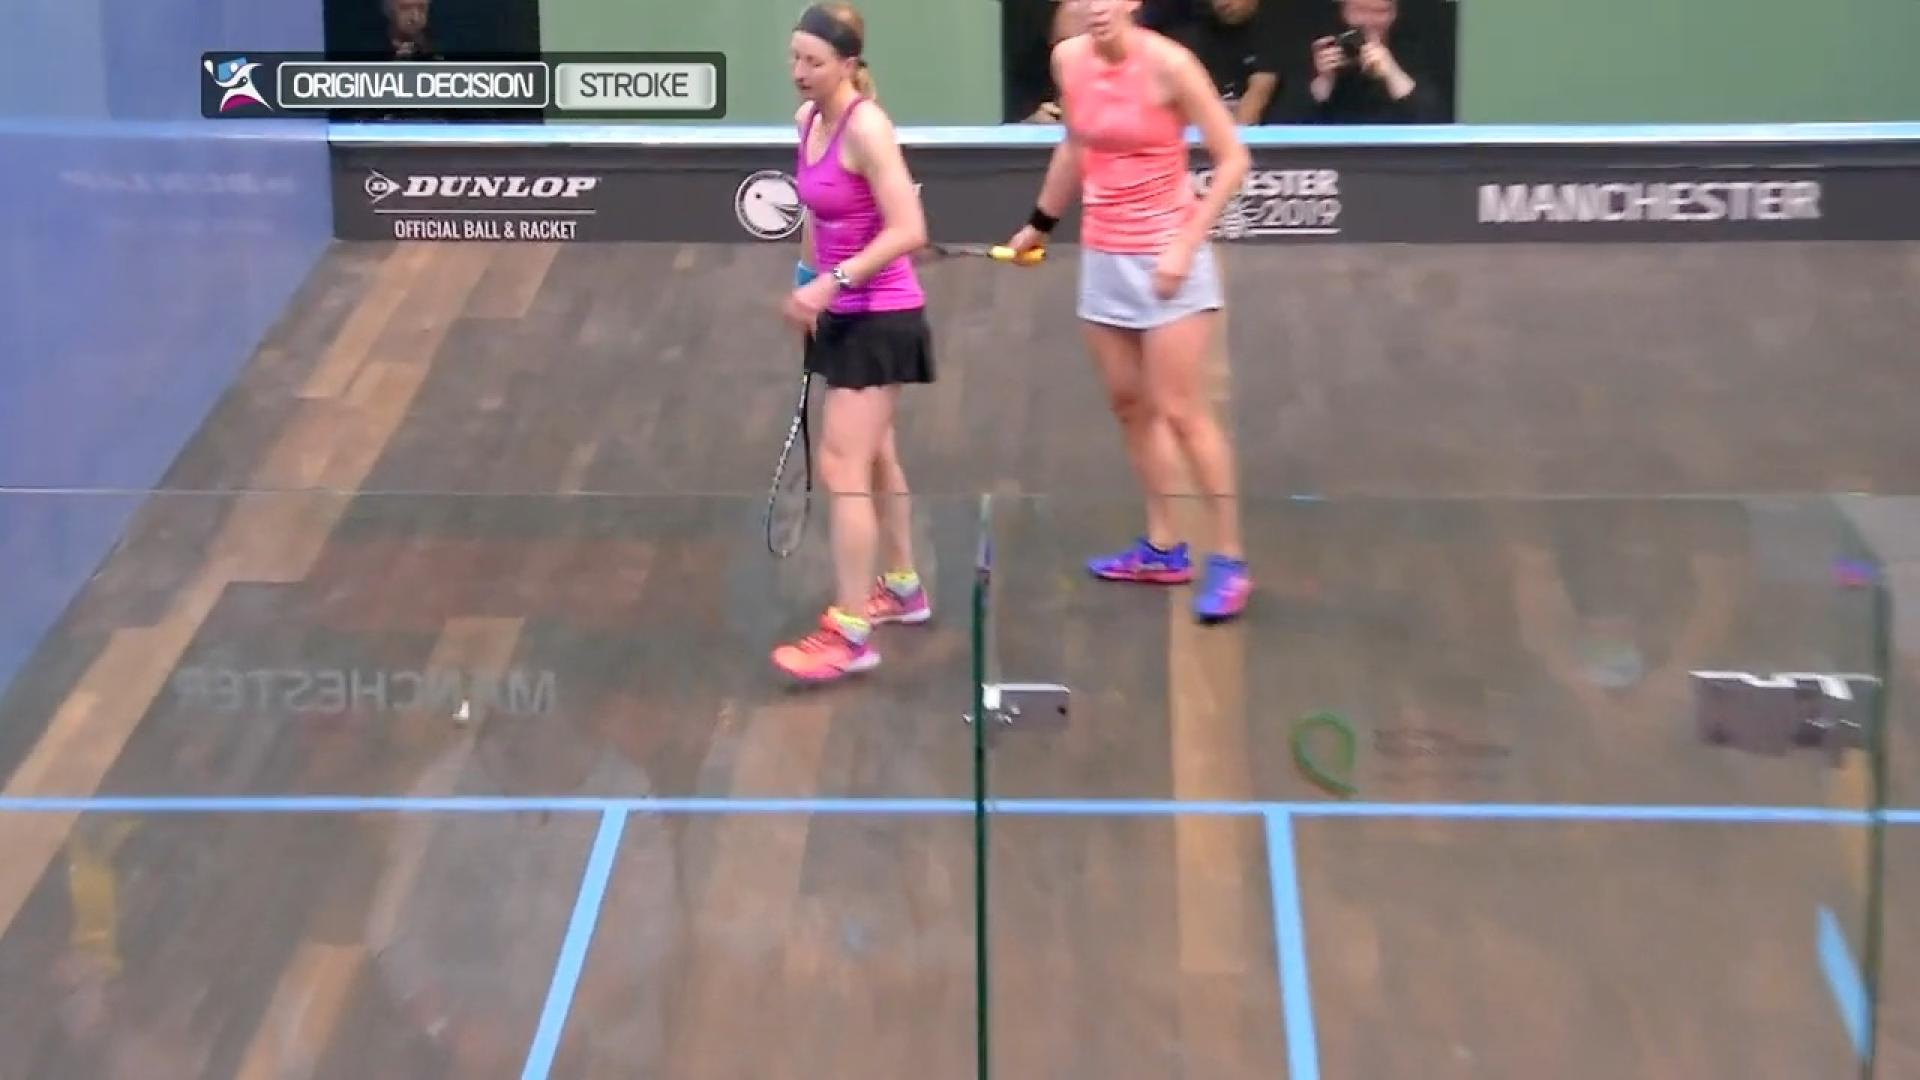Squash-Ball: (427, 680, 495, 750)
